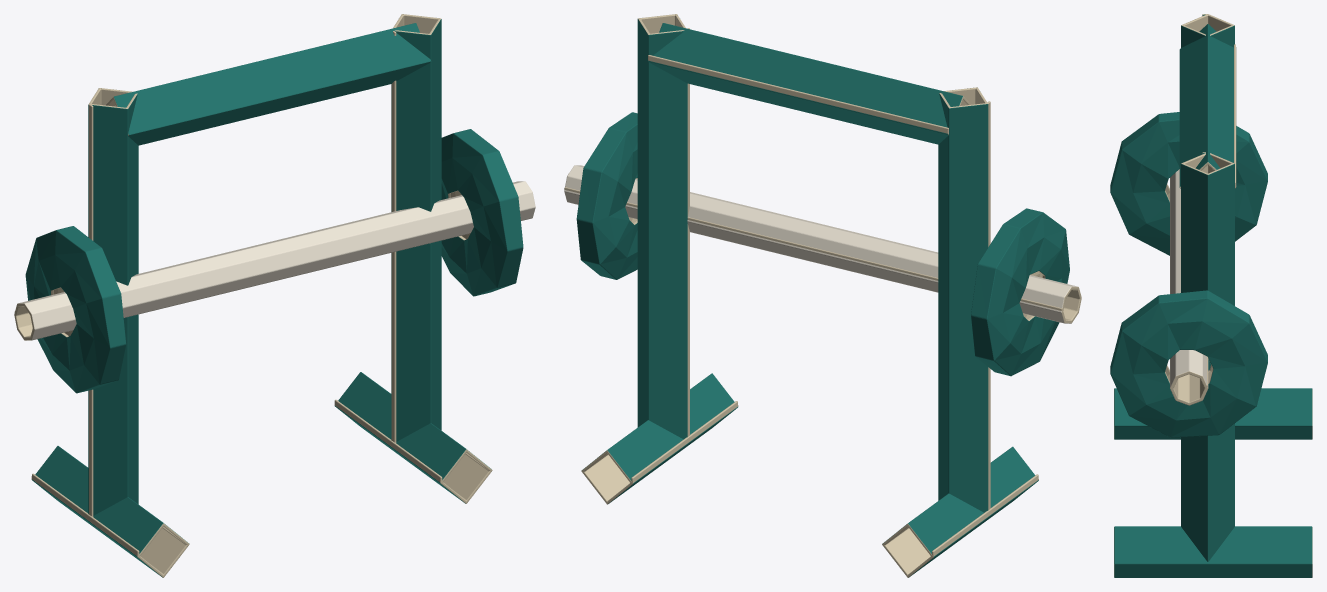
The model's file is achievement-workout-week.glb.
3 renders of one model, left to right at view 1: azimuth 30°, elevation 25°; view 2: azimuth 150°, elevation 25°; view 3: azimuth 270°, elevation 25°, orthographic. The views are drawn at different scales.
Parts seen in each view (by area): view 1: achievement-workout-week; view 2: achievement-workout-week; view 3: achievement-workout-week.
Part boxes in pixels (x1,y1,x2,y2): achievement-workout-week: (14,14,535,577); achievement-workout-week: (564,14,1081,577); achievement-workout-week: (1110,14,1312,577).
Bounding box in the file's own units: 2.02 × 1.71 × 0.7539.
